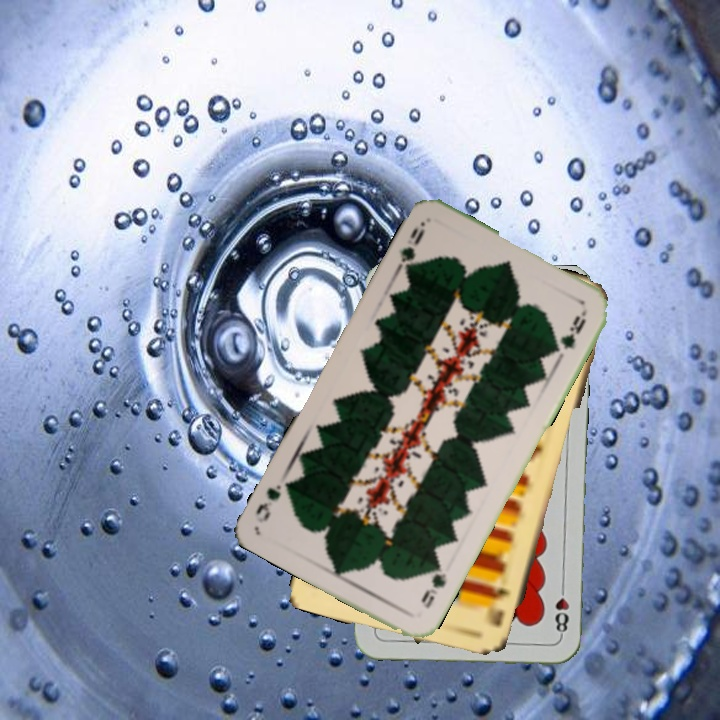E10: (484, 582, 514, 630)
G9: (392, 217, 428, 277), (417, 558, 450, 611)
H8: (551, 580, 571, 639)
